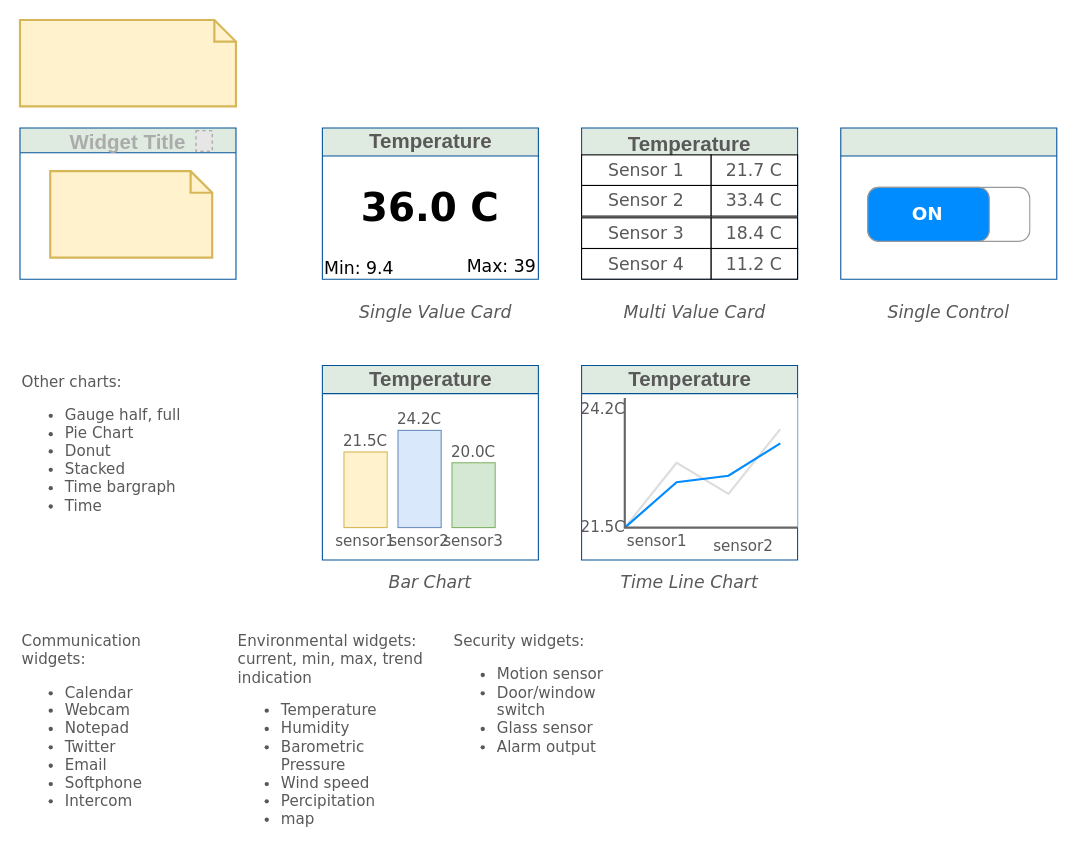
This 1076x862 diagram has some shape labels left out. Grey dashed boxes stand in for pictures. The box of each missing label's shape, as (x1, y1, x2, y2) in pixels:
Switch: (840, 127, 1057, 279)
Widget content can be anything: (49, 170, 213, 258)
Widget Header is optional. Always shown in edit mode.: (18, 18, 237, 107)
